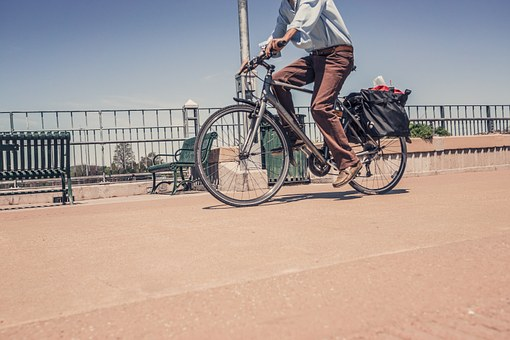bikerider: (165, 1, 418, 201)
